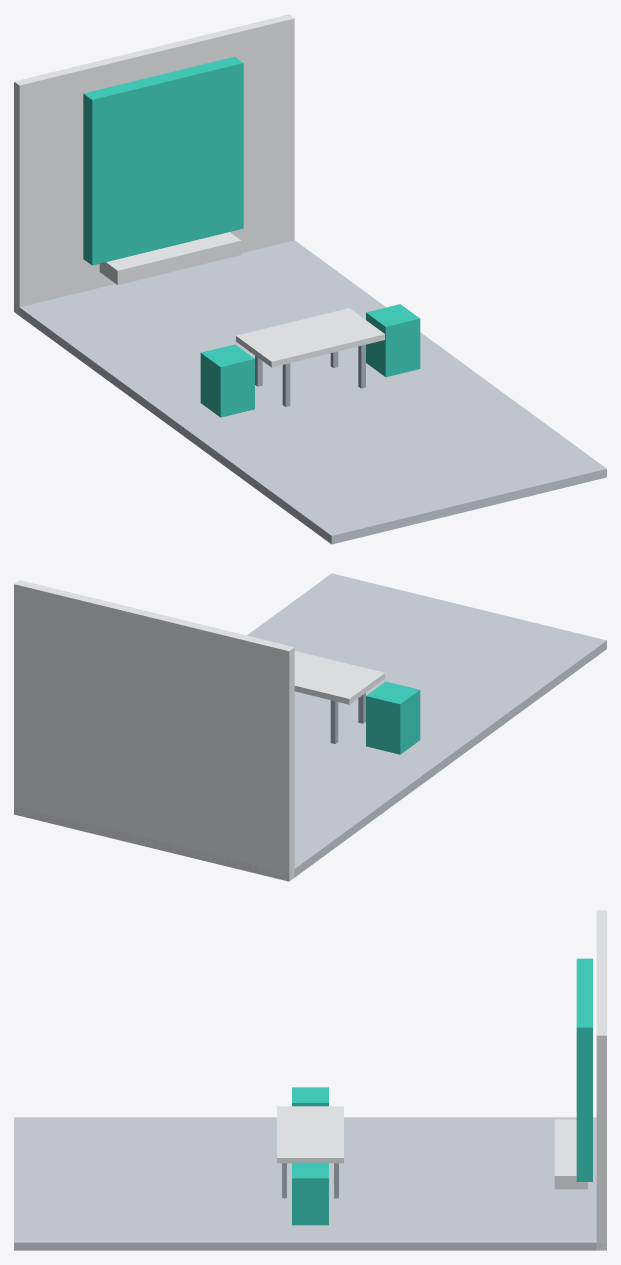
3 views of the same model, one above another, from view 1: azimuth 30°, elevation 25°; view 2: azimuth 150°, elevation 25°; view 3: azimuth 270°, elevation 25° (orthographic). The views are drawn at different scales.
Visible parts, largest first — view 1: Exhibition Booth Concept; view 2: Exhibition Booth Concept; view 3: Exhibition Booth Concept.
Part boxes in pixels (<box>): Exhibition Booth Concept: <box>14,14,606,544</box>; Exhibition Booth Concept: <box>14,573,606,881</box>; Exhibition Booth Concept: <box>14,910,606,1250</box>.
Bounding box in the file's own units: 4 × 3.2 × 8.
